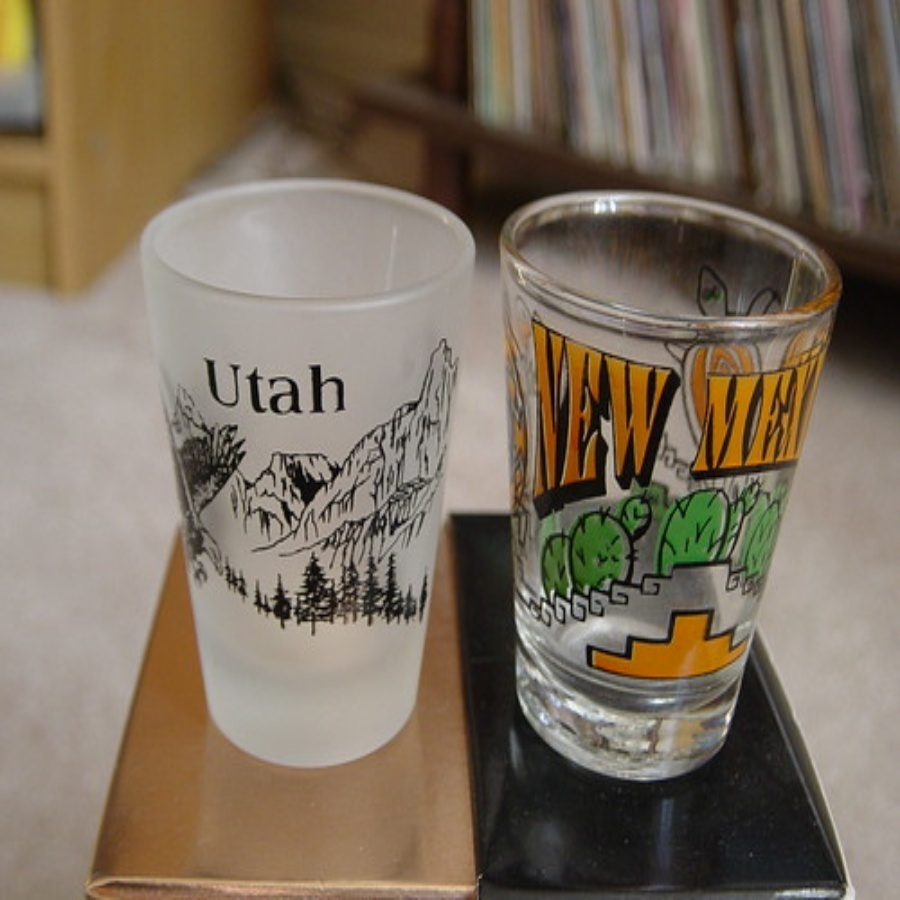whiskey: (487, 210, 833, 791), (133, 167, 479, 748)
